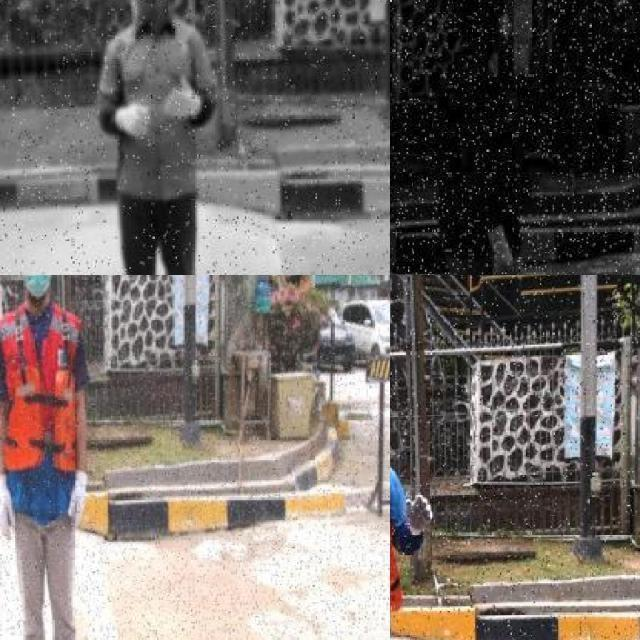apron: (160, 66, 203, 132), (114, 98, 156, 144), (397, 490, 435, 540), (482, 221, 516, 275), (67, 465, 90, 536), (0, 473, 19, 544)
